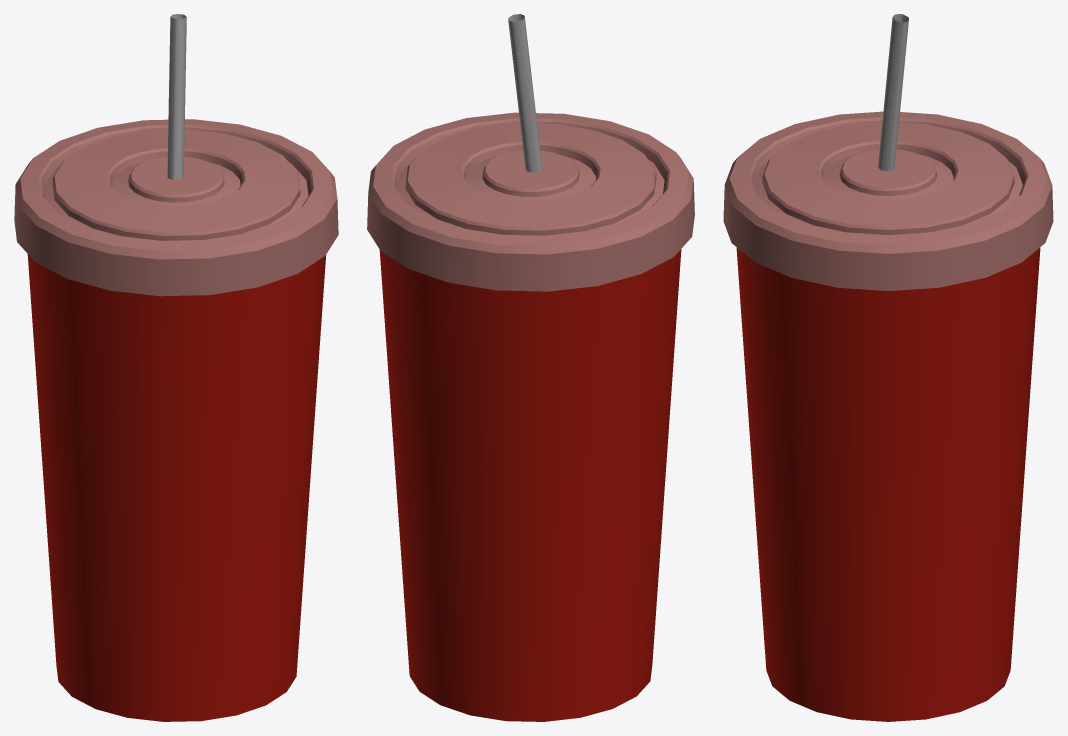
The model's file is Food Court_Soda 1.fbx.
The picture shows the model from 3 angles, left to right: view 1: azimuth 30°, elevation 25°; view 2: azimuth 150°, elevation 25°; view 3: azimuth 270°, elevation 25°; orthographic projection.
Parts seen in each view (by area): view 1: polySurface21; view 2: polySurface21; view 3: polySurface21.
Part boxes in pixels (x1,y1,x2,y2): polySurface21: (14, 14, 338, 721); polySurface21: (367, 14, 694, 721); polySurface21: (723, 14, 1053, 721).
Size of the model in its own units: 0.3109 by 0.6832 by 0.3109.
